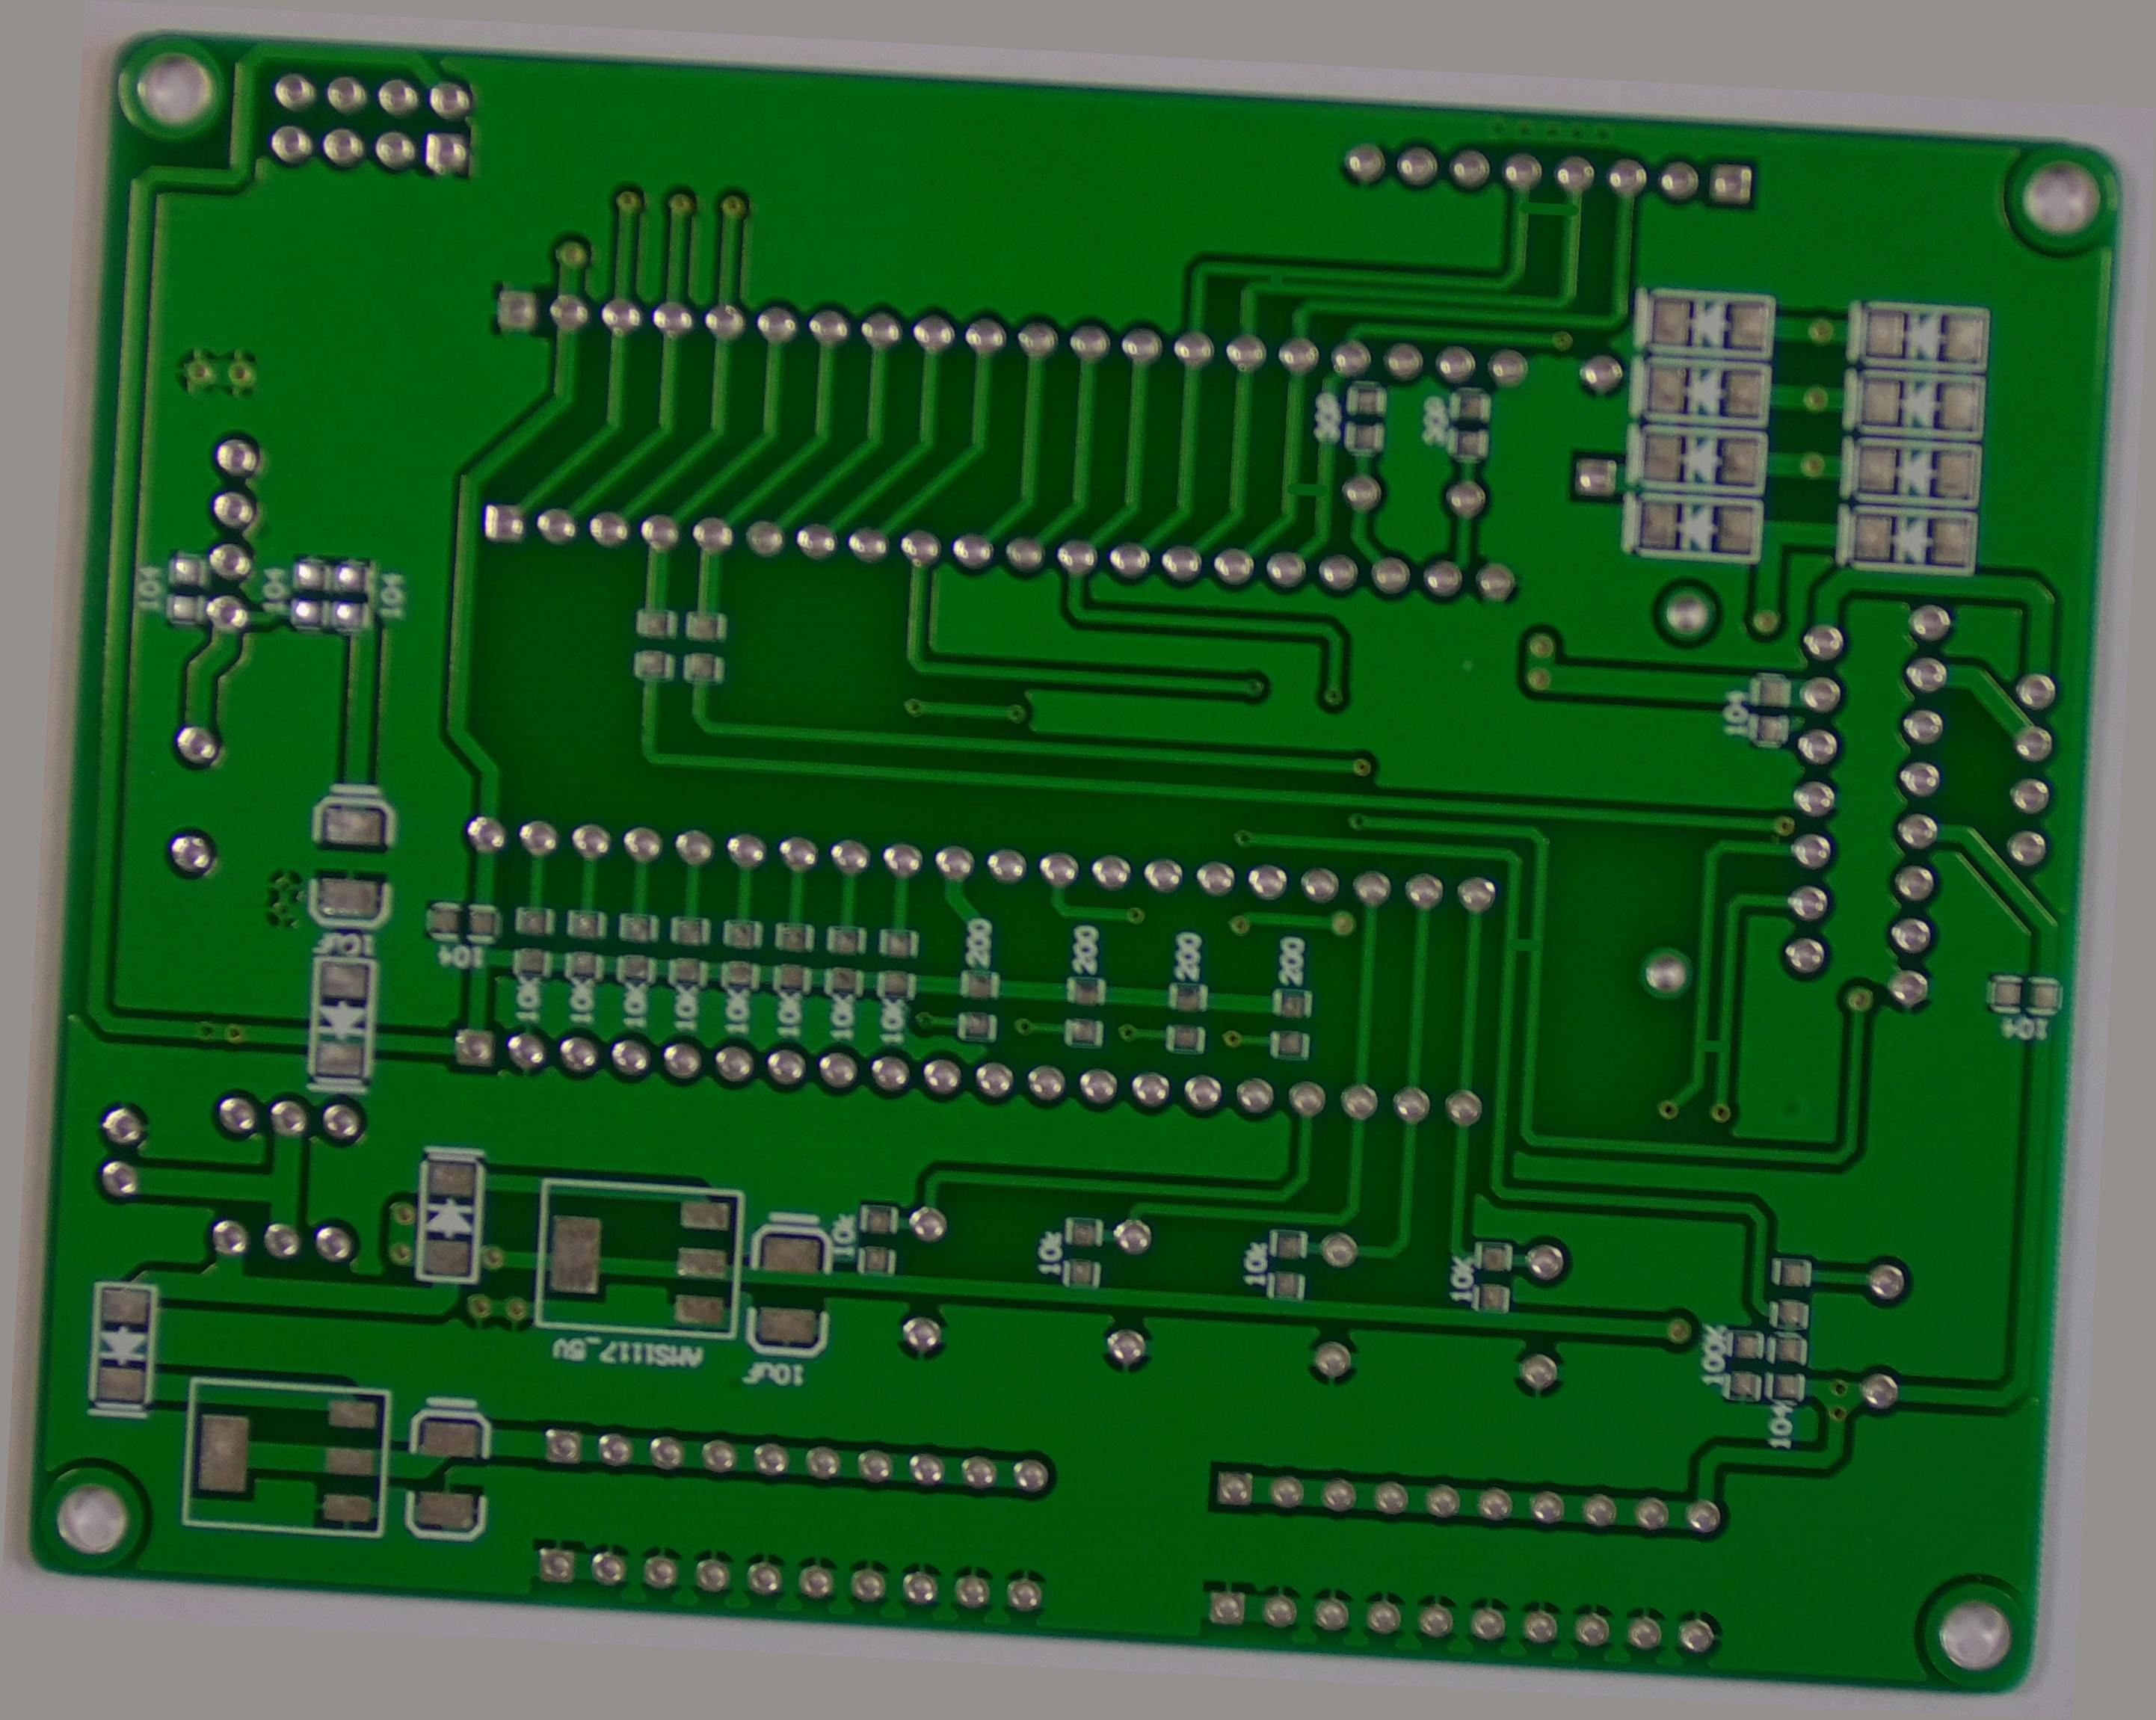short: (1505, 181, 1589, 232), (1271, 463, 1336, 518), (1494, 920, 1550, 971), (1247, 253, 1301, 302), (1682, 1018, 1736, 1067)
